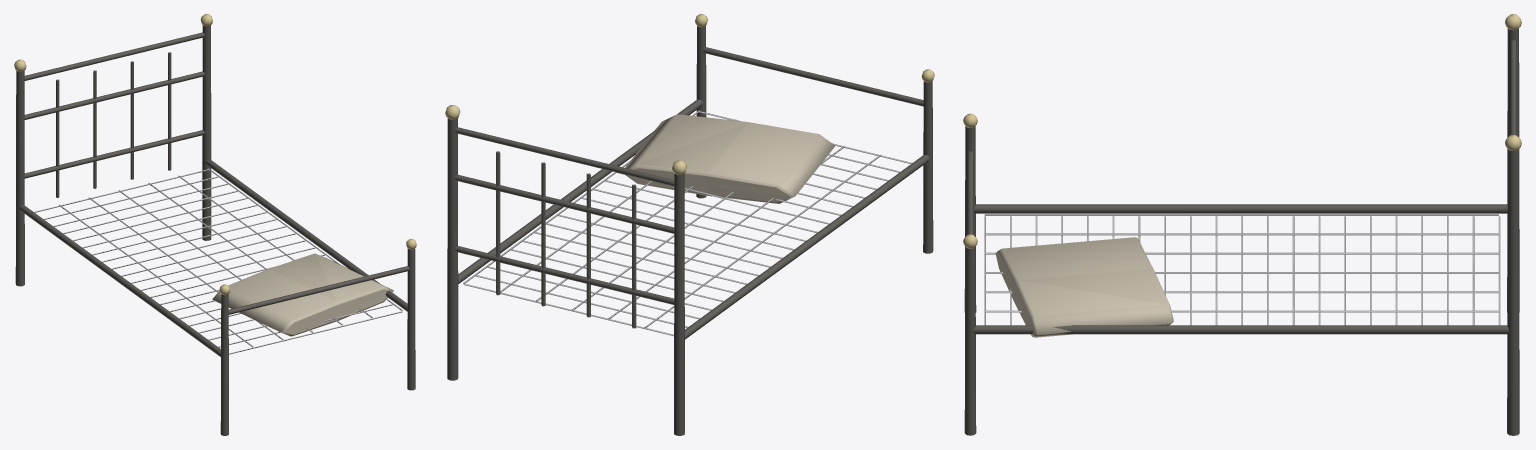
The model's file is cabin_bed_a_stripped.glb.
The picture shows the model from 3 angles, left to right: view 1: azimuth 30°, elevation 25°; view 2: azimuth 150°, elevation 25°; view 3: azimuth 270°, elevation 25°; orthographic projection. The views are drawn at different scales.
Parts seen in each view (by area): view 1: body; view 2: body; view 3: body.
Part boxes in pixels (<box>): body: <box>14,14,416,435</box>; body: <box>445,14,934,435</box>; body: <box>963,14,1521,435</box>.
Bounding box in the file's own units: 1.07 × 1.15 × 1.96.
